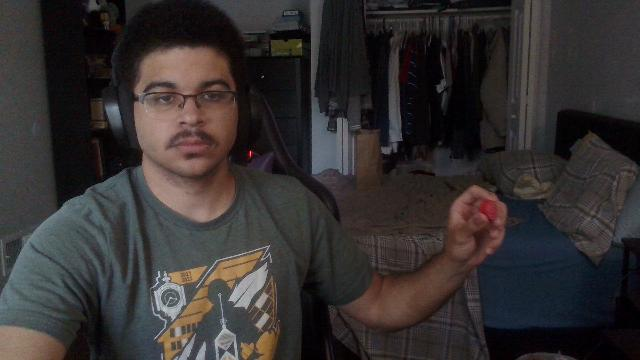cap: (480, 200, 498, 222)
